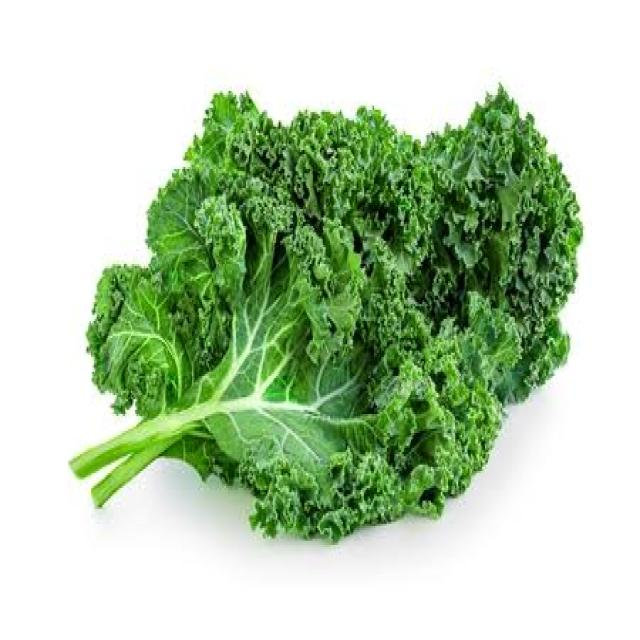food waste: (60, 68, 587, 570)
